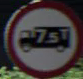Heavy Vehicles: (5, 5, 77, 62)
